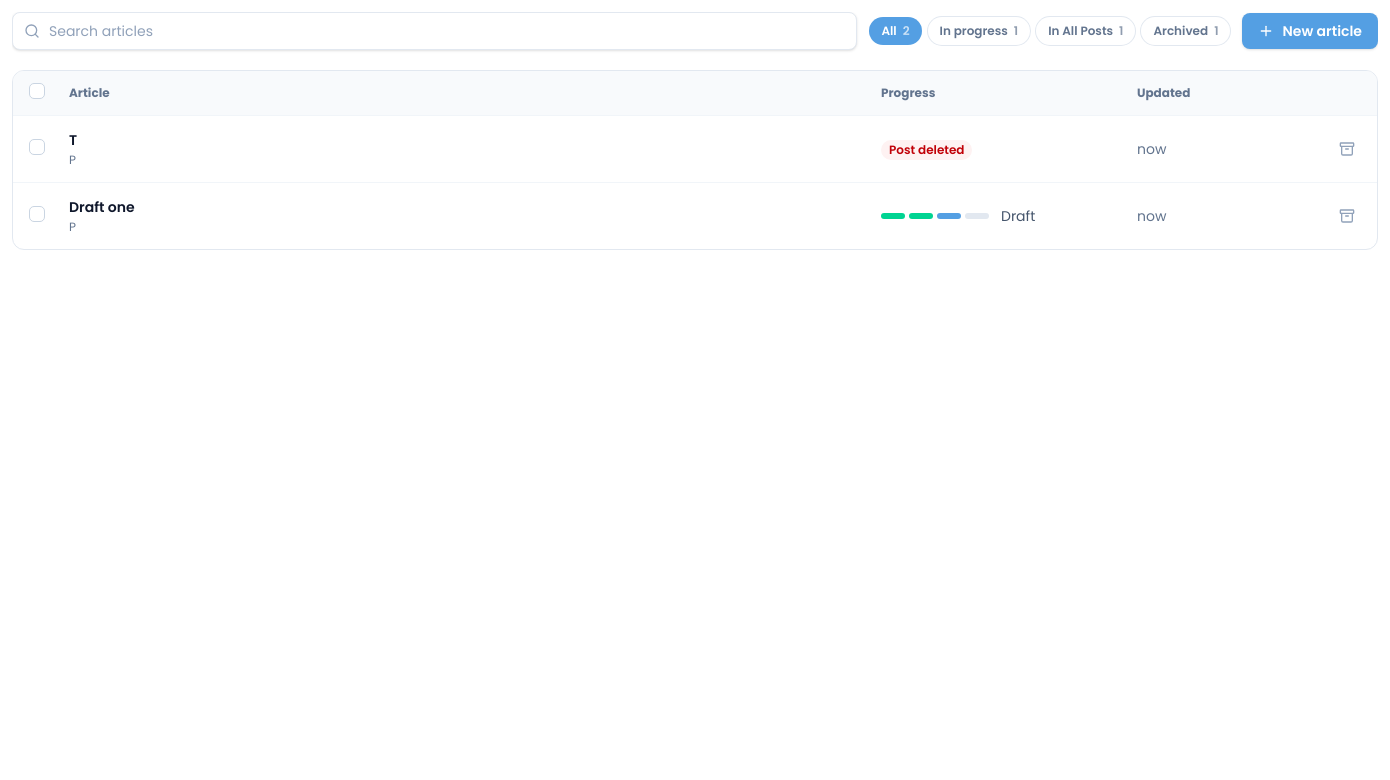
Scenario: PieceList › says which articles a running job kept
Click the checkbox named "Select all": [37, 91] box [29,83,45,99]
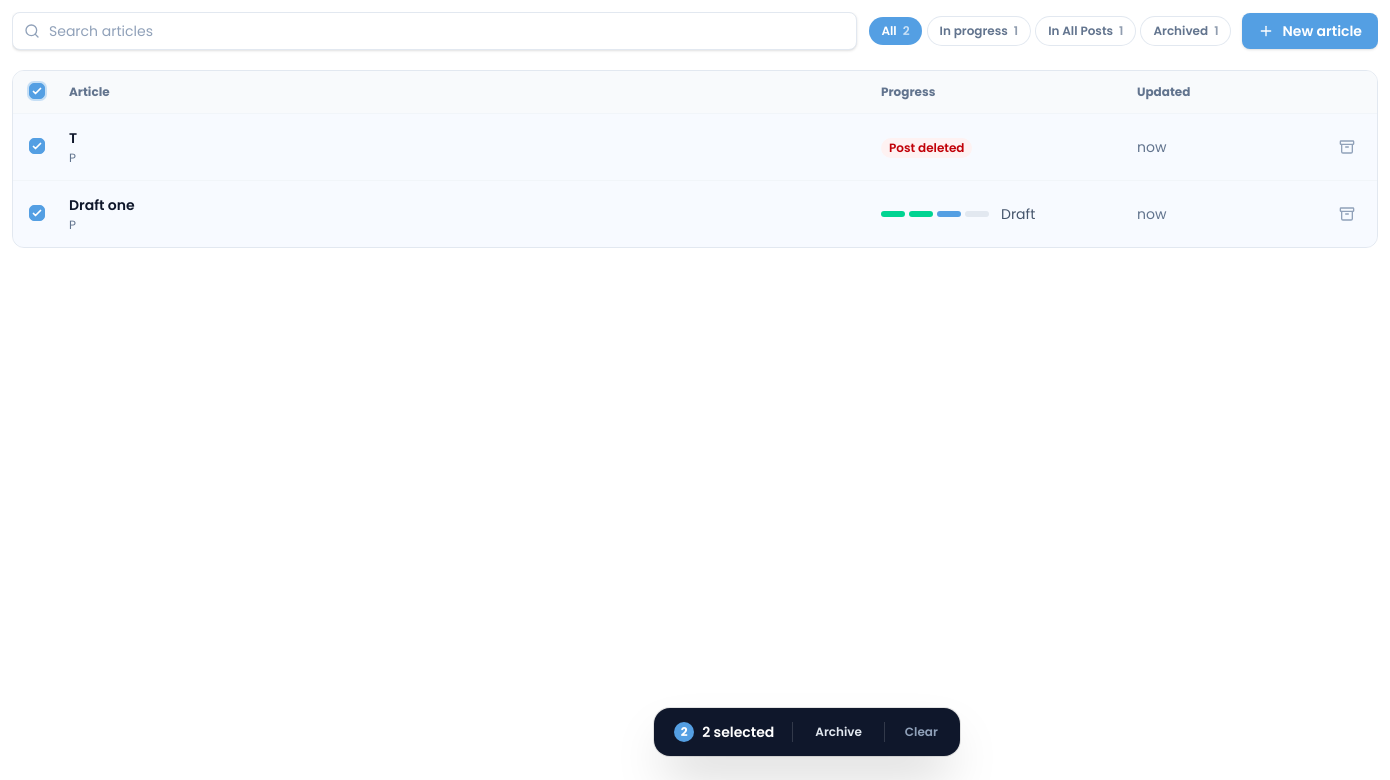
Click the button "Archive": [839, 732] box [803,718,874,746]
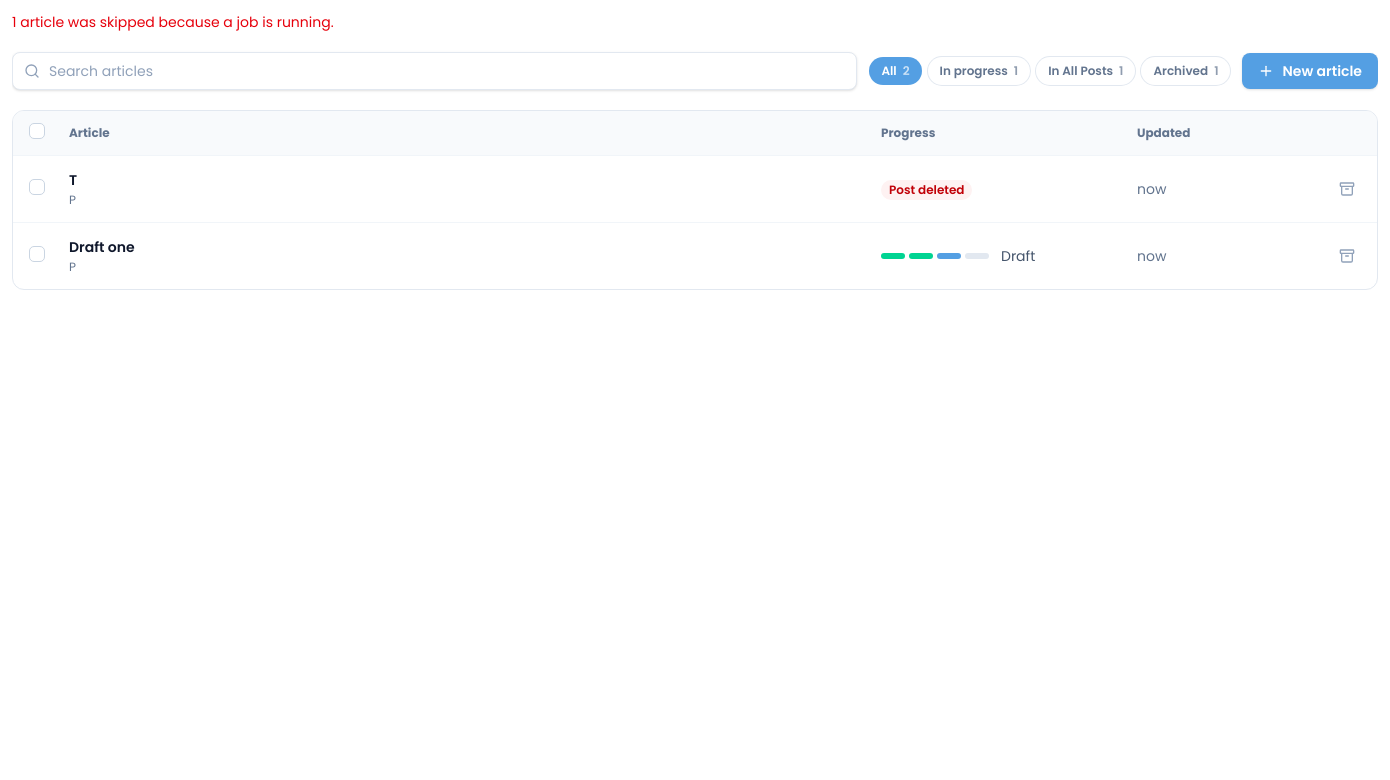
Result: the text "1 article was skipped because a job is running." is shown at [12,12,334,32]
